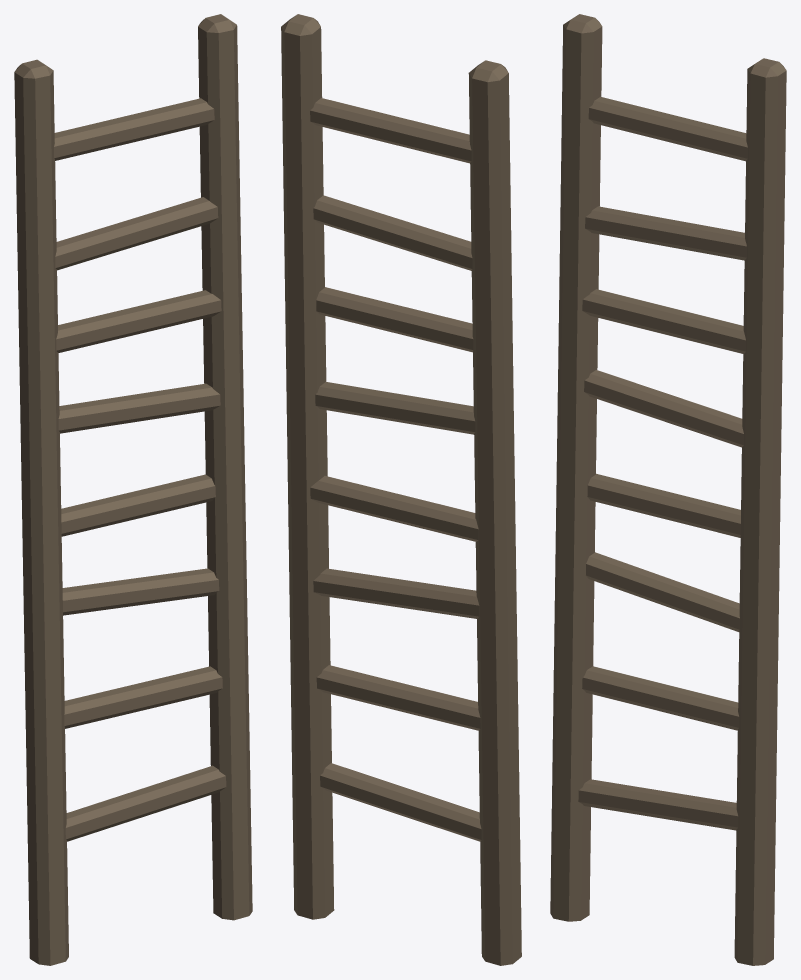
The model's file is Ladder.fbx.
3 renders of one model, left to right at view 1: azimuth 30°, elevation 25°; view 2: azimuth 150°, elevation 25°; view 3: azimuth 330°, elevation 25°, orthographic. The views are drawn at different scales.
Parts seen in each view (by area): view 1: polySurface225; view 2: polySurface225; view 3: polySurface225.
Part boxes in pixels (x1,y1,x2,y2): polySurface225: [14, 14, 252, 965]; polySurface225: [281, 14, 521, 965]; polySurface225: [550, 14, 786, 965].
Bounding box in the file's own units: 0.5091 × 2 × 0.1305.
